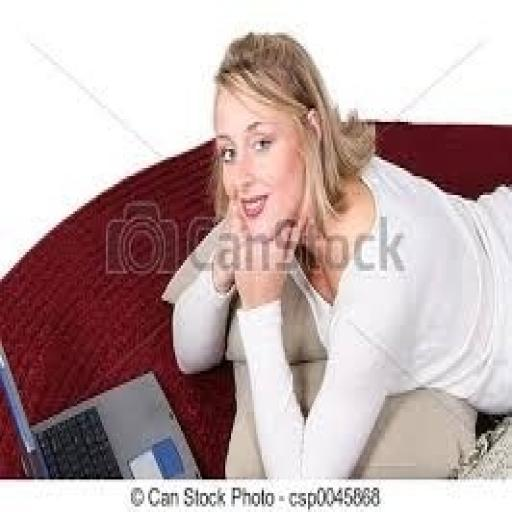using_laptop: (0, 260, 333, 512)
